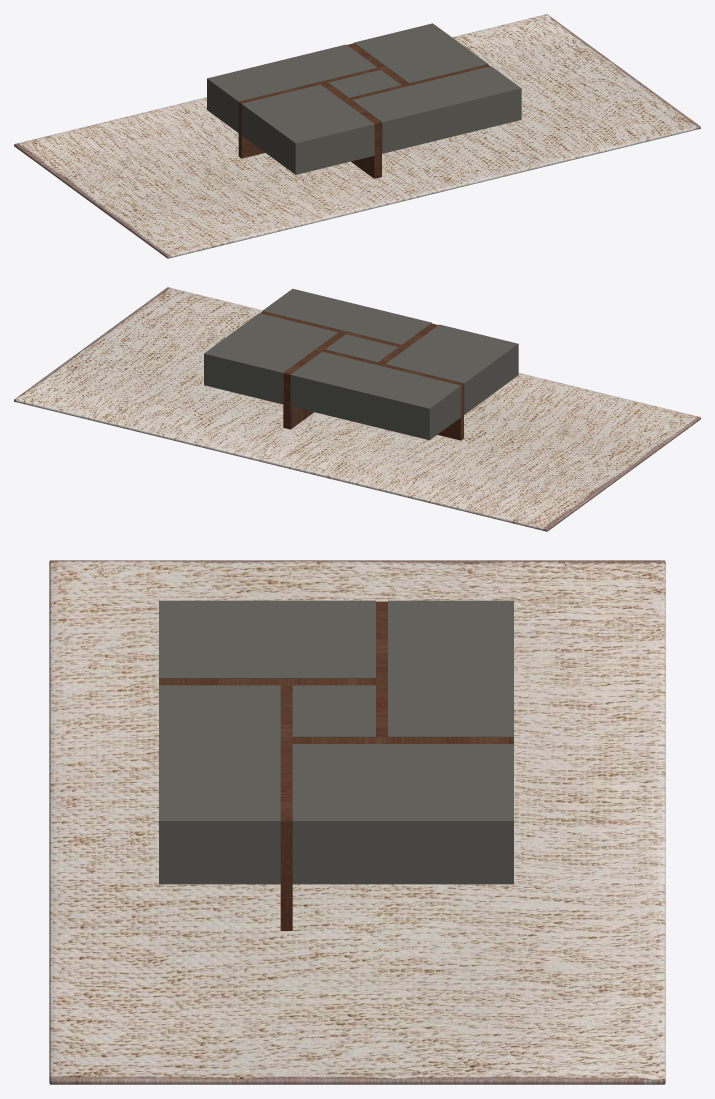
File: RugAndTable.glb
3 views of the same model, one above another, from view 1: azimuth 30°, elevation 25°; view 2: azimuth 150°, elevation 25°; view 3: azimuth 270°, elevation 25° (orthographic). The views are drawn at different scales.
Parts seen in each view (by area): view 1: Coffee Table.002; view 2: Coffee Table.002; view 3: Coffee Table.002.
Part boxes in pixels (left/top/right/bottom): Coffee Table.002: left=14, top=14, right=700, bottom=258; Coffee Table.002: left=14, top=287, right=700, bottom=531; Coffee Table.002: left=49, top=560, right=665, bottom=1084.
Size of the model in its own units: 2.71 by 0.2808 by 1.36.
Materials: 3 (2 with a texture image).
